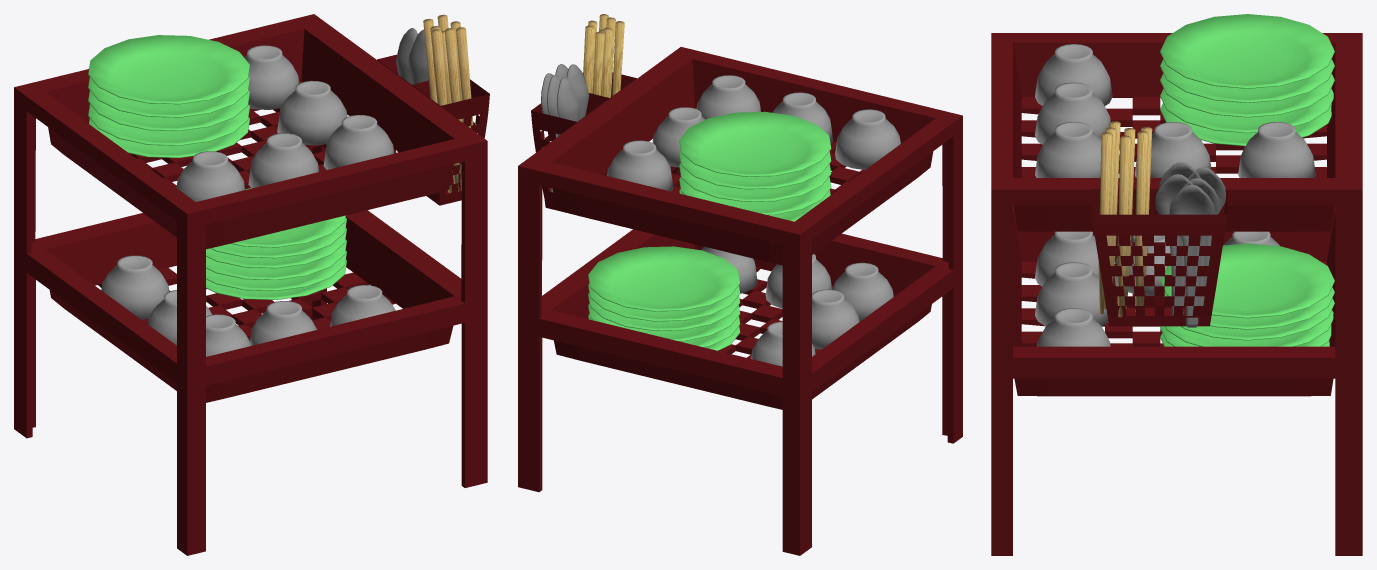
File: cabinet.fbx
The picture shows the model from 3 angles, left to right: view 1: azimuth 30°, elevation 25°; view 2: azimuth 150°, elevation 25°; view 3: azimuth 270°, elevation 25°; orthographic projection. The views are drawn at different scales.
Parts seen in each view (by area): view 1: Cylinder.029; view 2: Cylinder.029; view 3: Cylinder.029.
Part boxes in pixels (x1,y1,x2,y2): Cylinder.029: (14,14,489,555); Cylinder.029: (518,14,962,555); Cylinder.029: (991,14,1362,555).
Bounding box in the file's own units: 93.29 × 80.14 × 104.
Materials: 5 (1 with a texture image).
